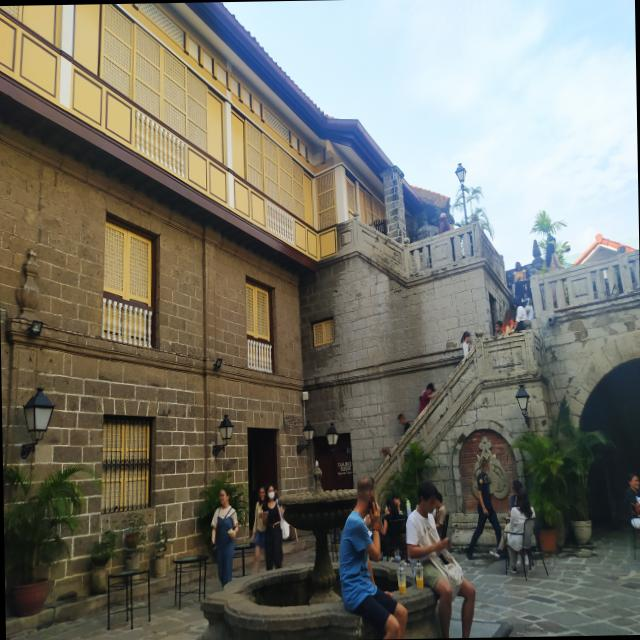Casa Manila: (0, 2, 640, 640)
